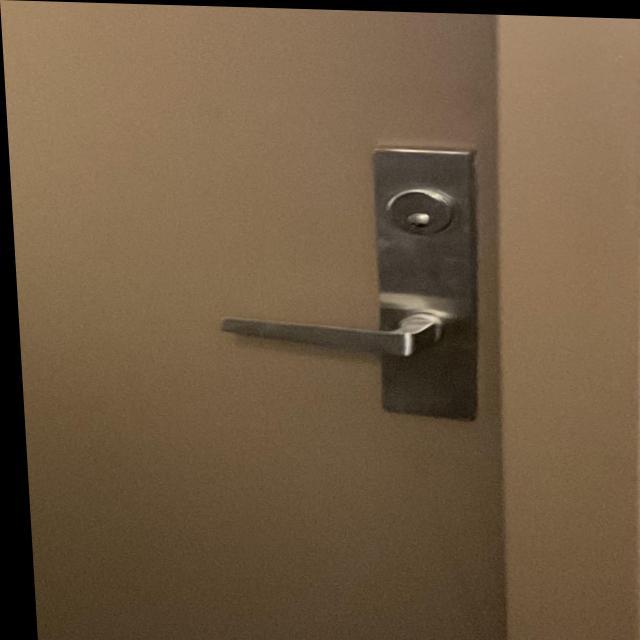door_handle: (204, 284, 476, 373)
